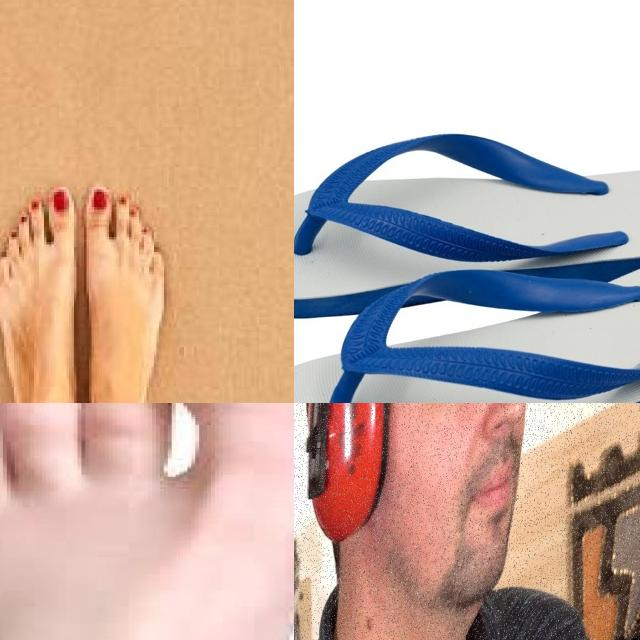Barefoots: (0, 403, 294, 640), (84, 164, 176, 403), (0, 192, 78, 403)
Ear-protection: (294, 403, 399, 557)
Sandals: (294, 106, 640, 403)
person: (294, 403, 604, 640)
